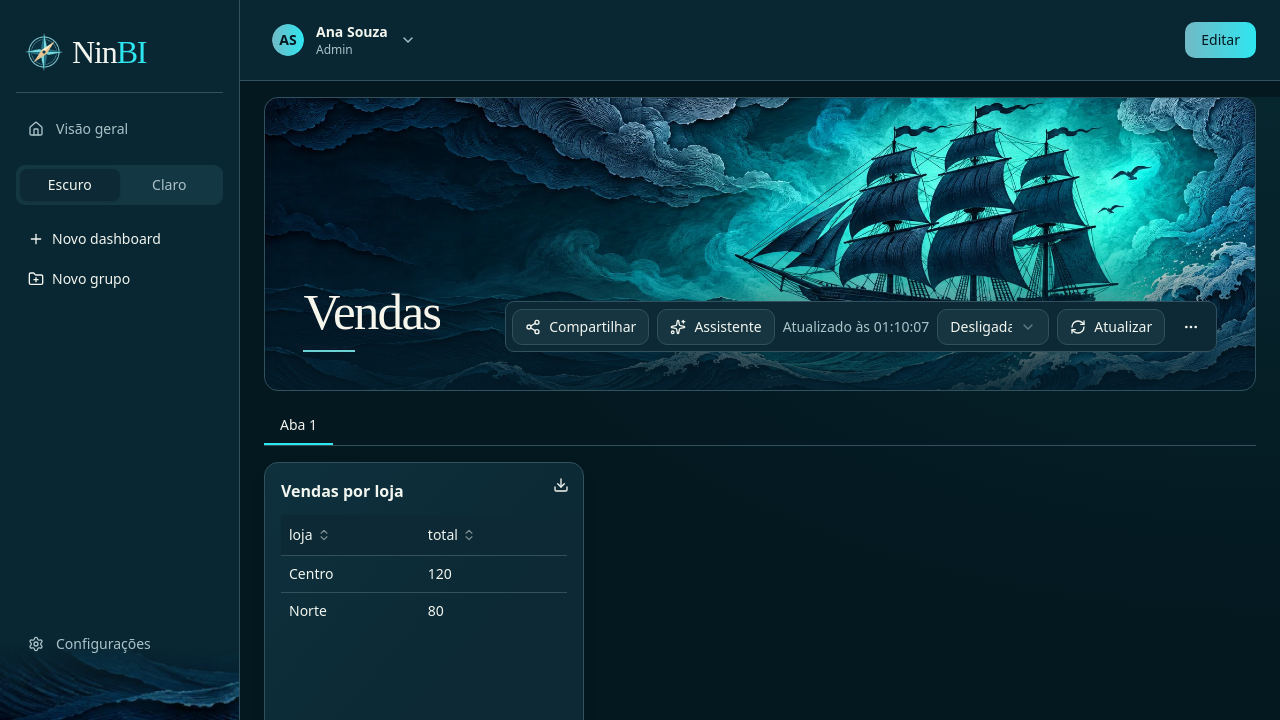
Test: DashboardPage troca de conexão › SMG-07 trocar para o mesmo tipo não pergunta
Click the button "Editar": click(1221, 40) [1185,22,1256,58]
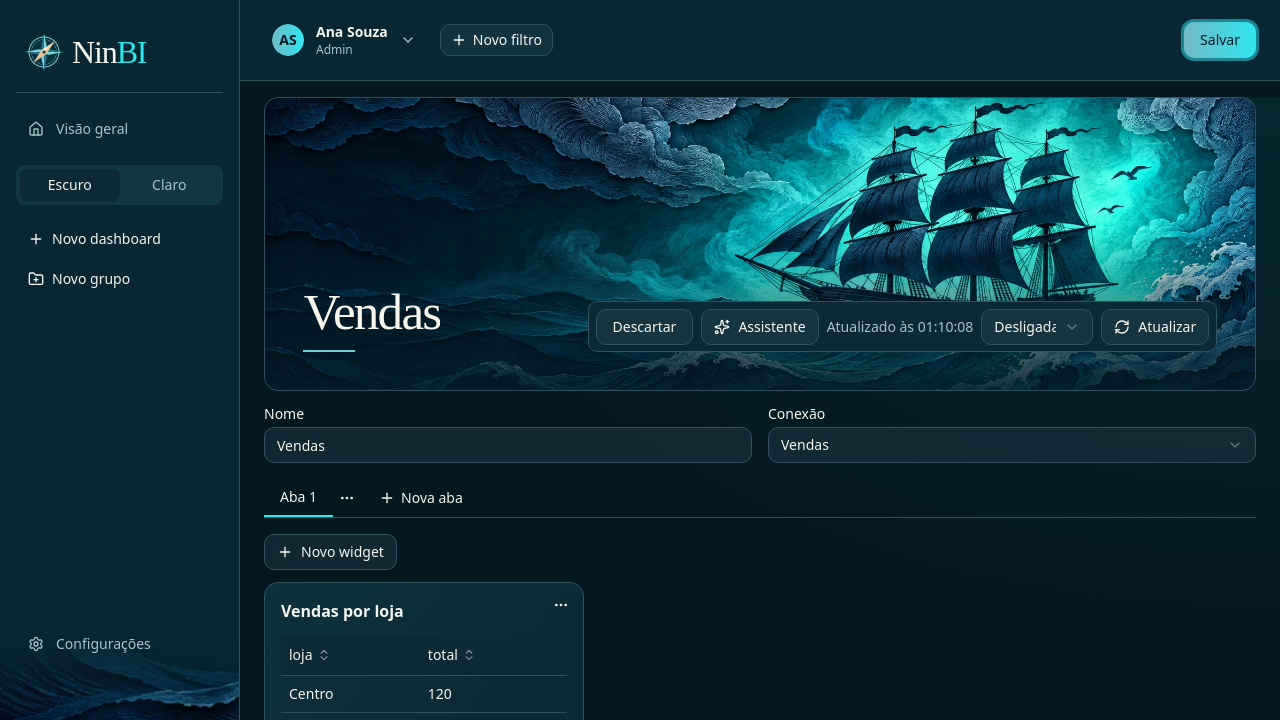
Click the dropdown named "Conexão": click(805, 445) [768,427,1256,463]
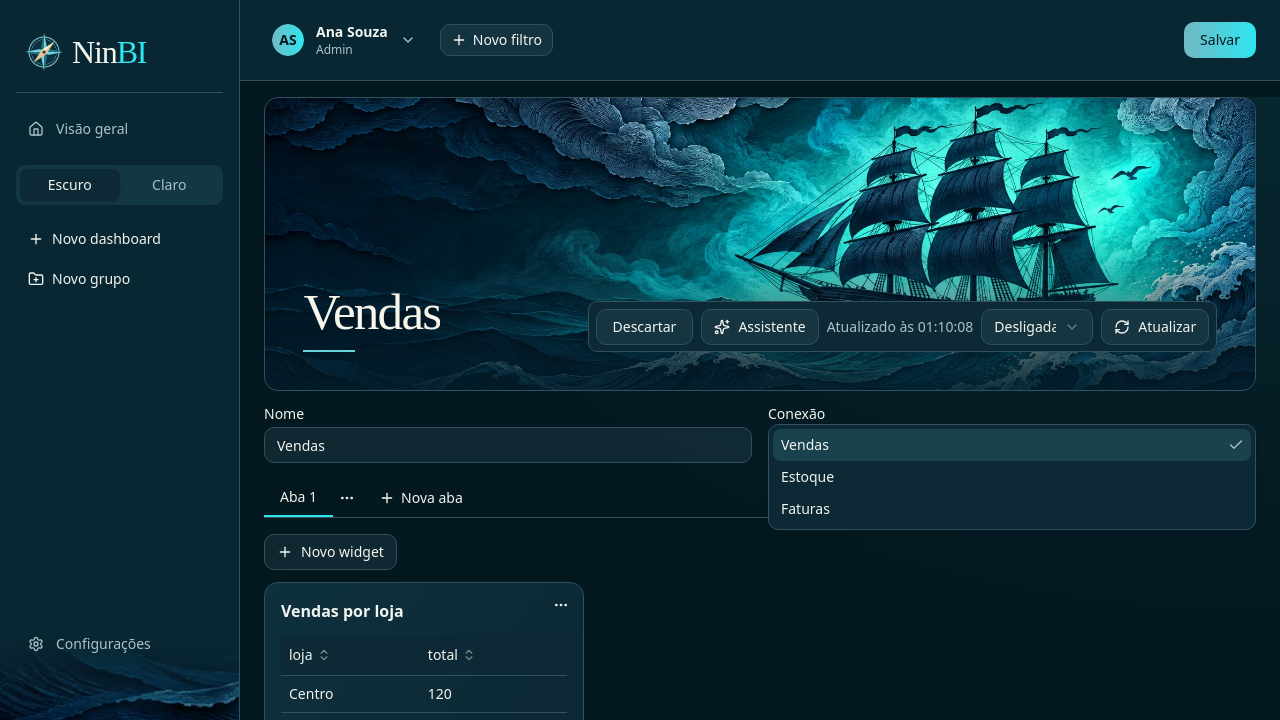
Click the option "Estoque": click(808, 477) [781,467,834,486]
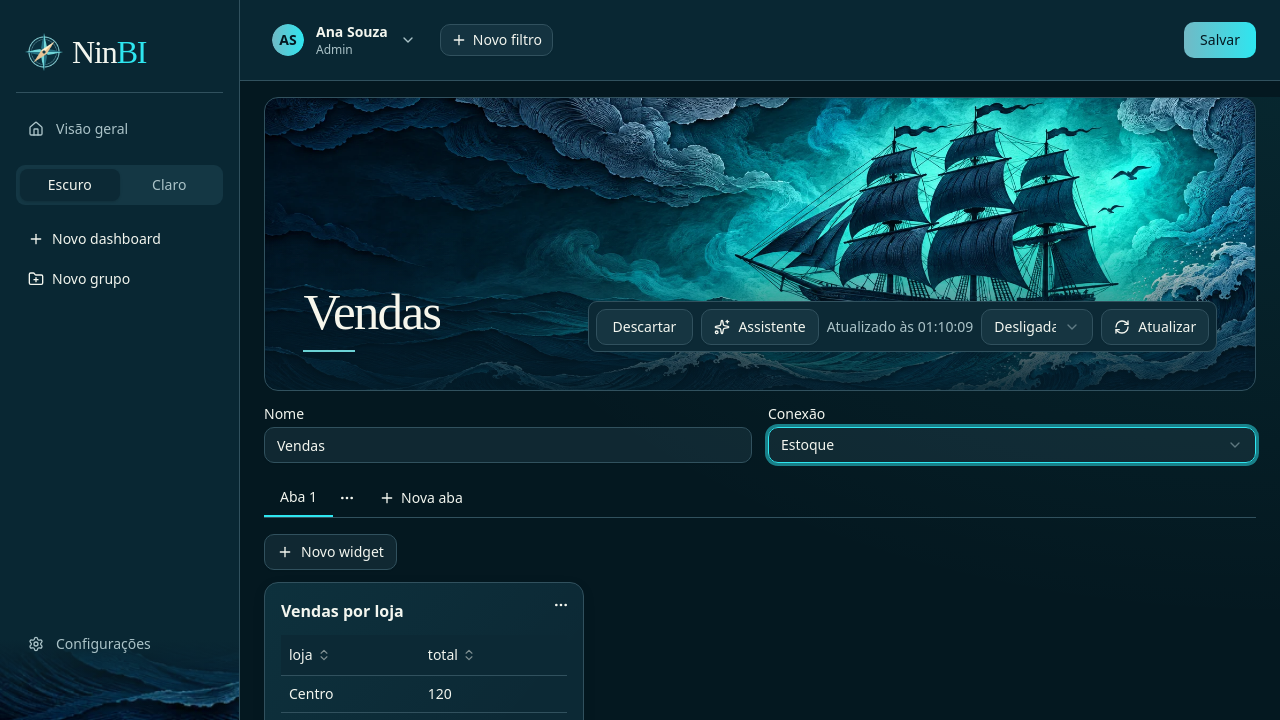
expect the dropdown named "Conexão" reads "Estoque": met, box [768,427,1256,463]
